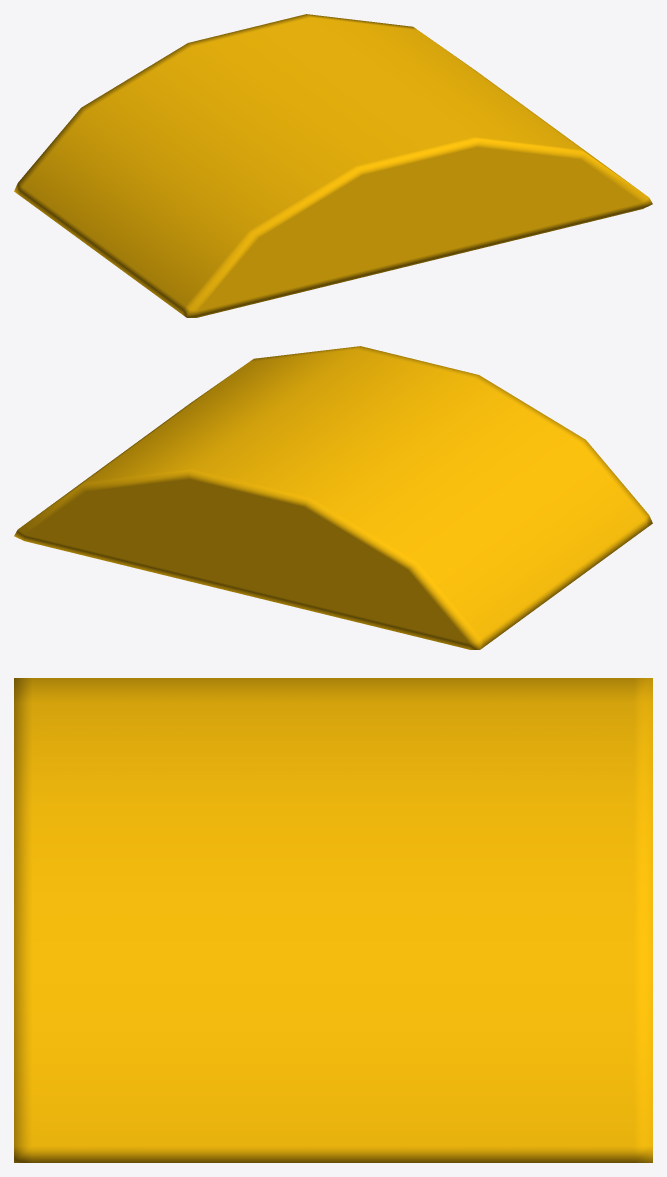
File: wooden_block_ize_01.FBX
3 renders of one model, top to bottom at view 1: azimuth 30°, elevation 25°; view 2: azimuth 150°, elevation 25°; view 3: azimuth 270°, elevation 25°, orthographic. The views are drawn at different scales.
Parts seen in each view (by area): view 1: wooden_block_ize_01; view 2: wooden_block_ize_01; view 3: wooden_block_ize_01.
Part boxes in pixels (box(x1,y1,x2,y2)): wooden_block_ize_01: box(14, 14, 652, 317); wooden_block_ize_01: box(14, 346, 652, 649); wooden_block_ize_01: box(14, 678, 652, 1162).
Size of the model in its own units: 402 by 89.45 by 258.
